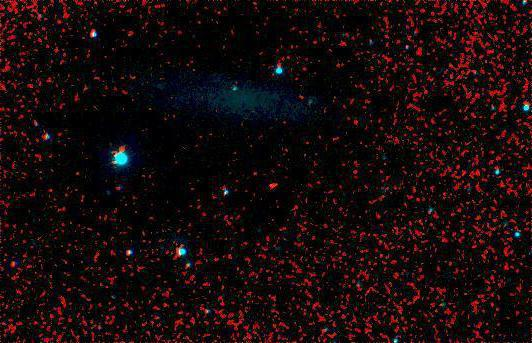star: (262, 172, 292, 202)
